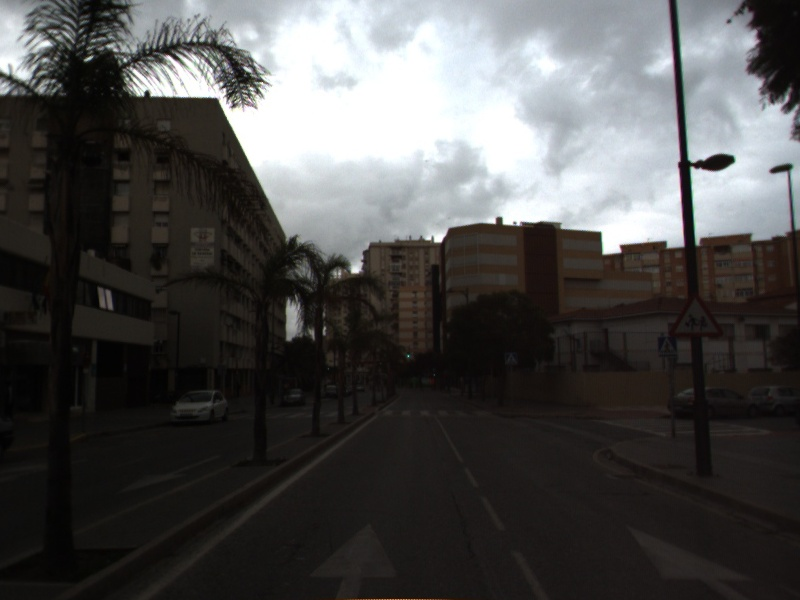STRAIGHT: (619, 518, 761, 600), (303, 518, 403, 600)
